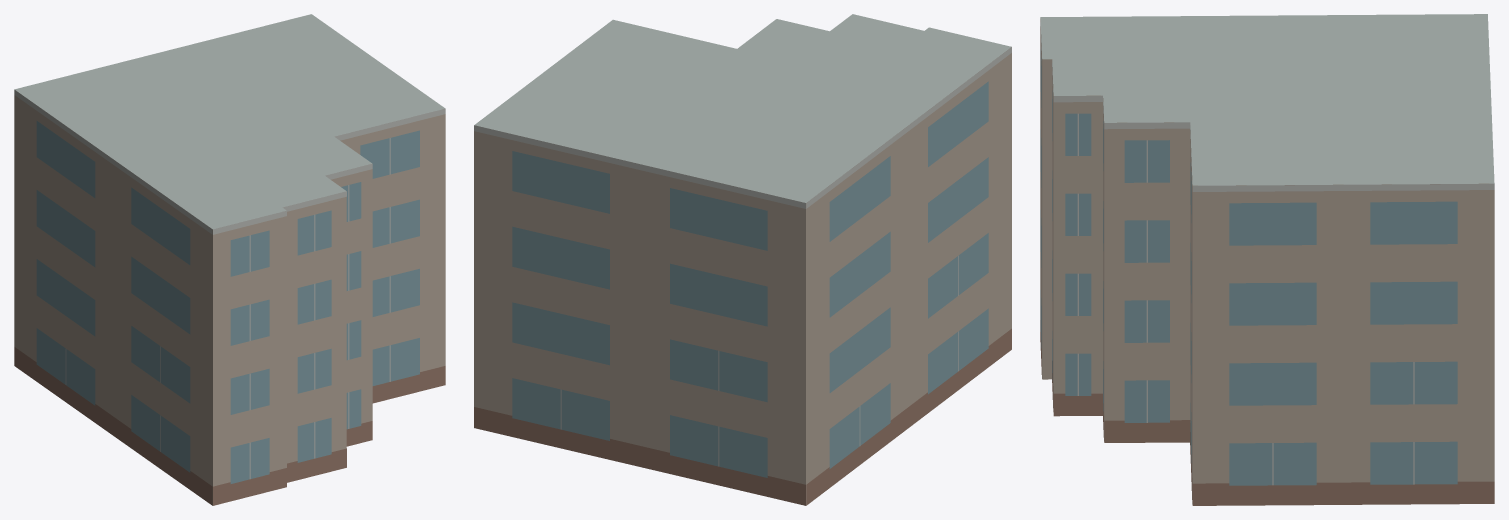
File: survey-upis-32913235.glb
The picture shows the model from 3 angles, left to right: view 1: azimuth 30°, elevation 25°; view 2: azimuth 150°, elevation 25°; view 3: azimuth 270°, elevation 25°; orthographic projection. The views are drawn at different scales.
Visible parts, largest first — view 1: survey-upis-32913235.tmp; view 2: survey-upis-32913235.tmp; view 3: survey-upis-32913235.tmp.
Part boxes in pixels (x1,y1,x2,y2): survey-upis-32913235.tmp: (14,14,445,505); survey-upis-32913235.tmp: (474,14,1011,505); survey-upis-32913235.tmp: (1040,14,1494,505).
Bounding box in the file's own units: 14.28 × 12.4 × 15.95.
